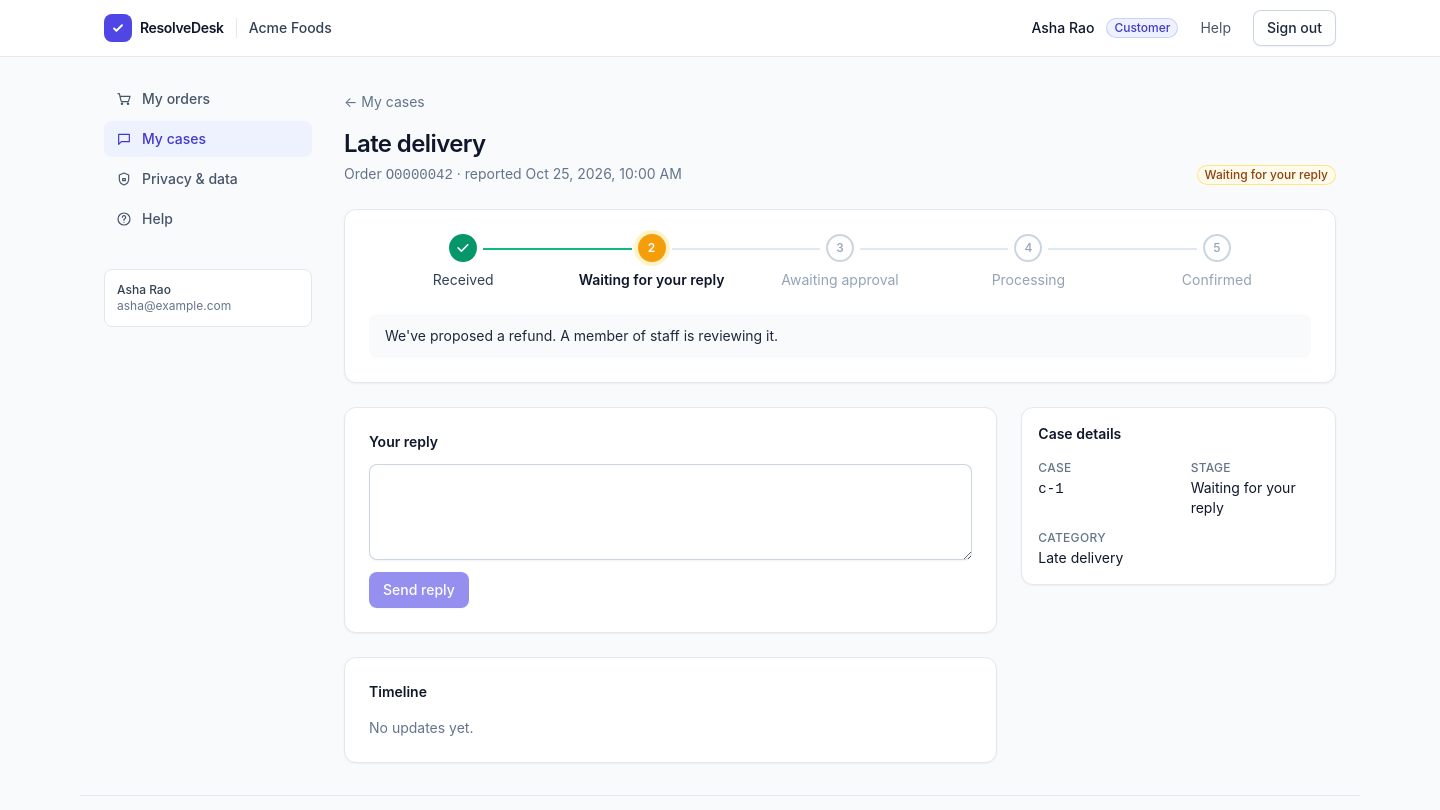
Test case: case page › shows a reply box only while awaiting info, posts the reply and refreshes
Type "The large fries." into the text box labelled "Your reply".
click(671, 512); type("The large fries.")  # box x1=369 y1=464 x2=972 y2=560
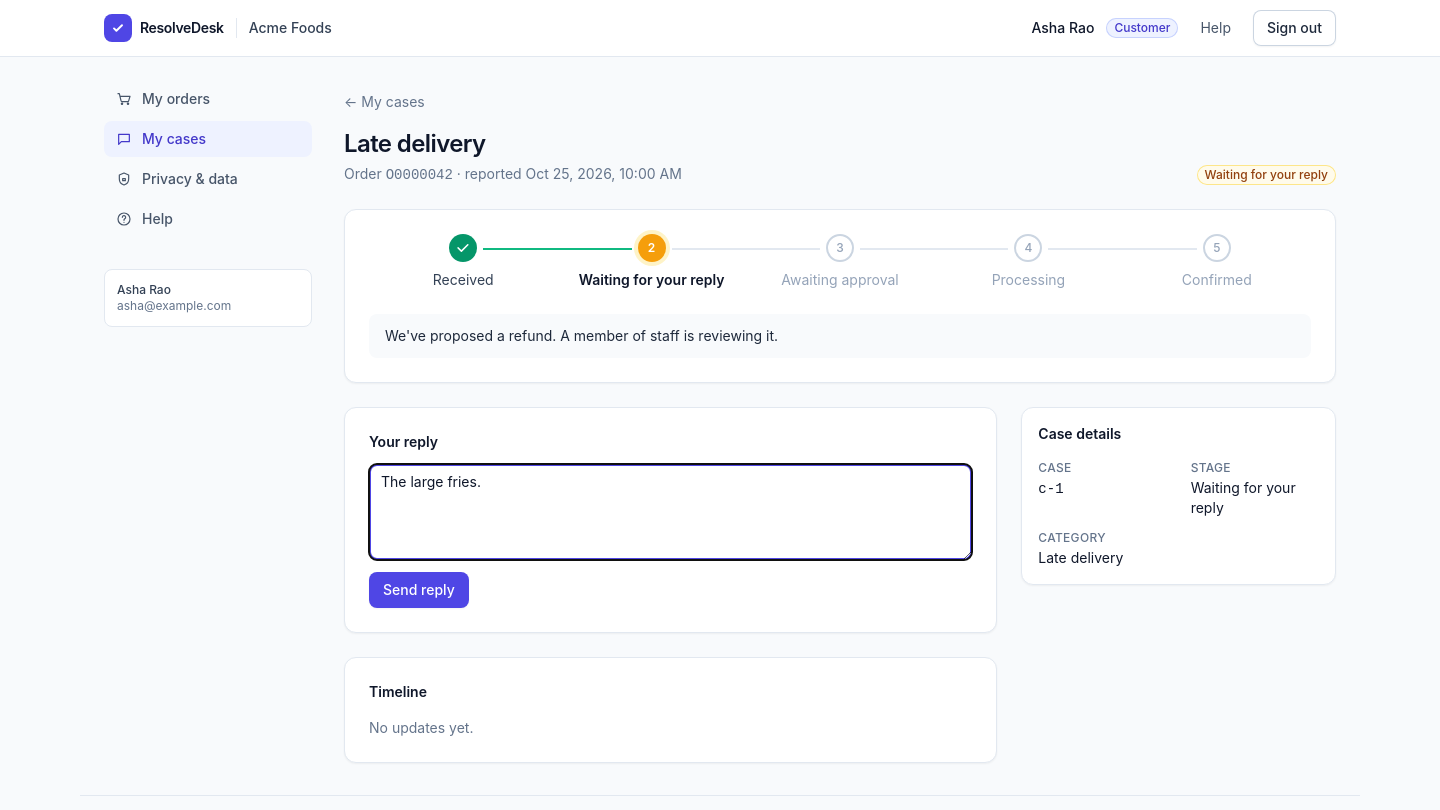
Click the button "Send reply".
click(419, 590)  # box x1=369 y1=572 x2=469 y2=608
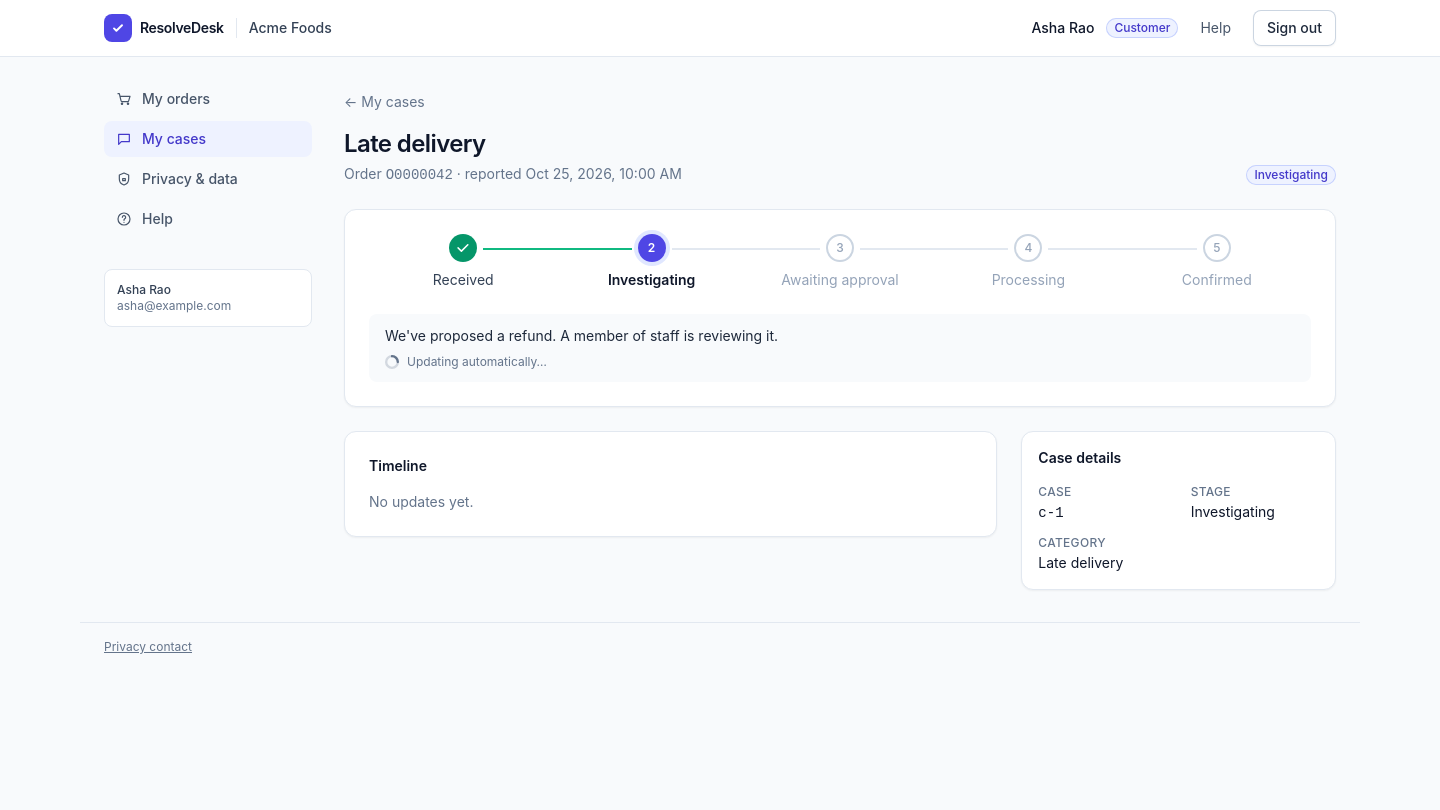
Check: the text "Updating automatically…" is shown, box x1=385 y1=354 x2=547 y2=369
Check: the text labelled "your reply" is gone
